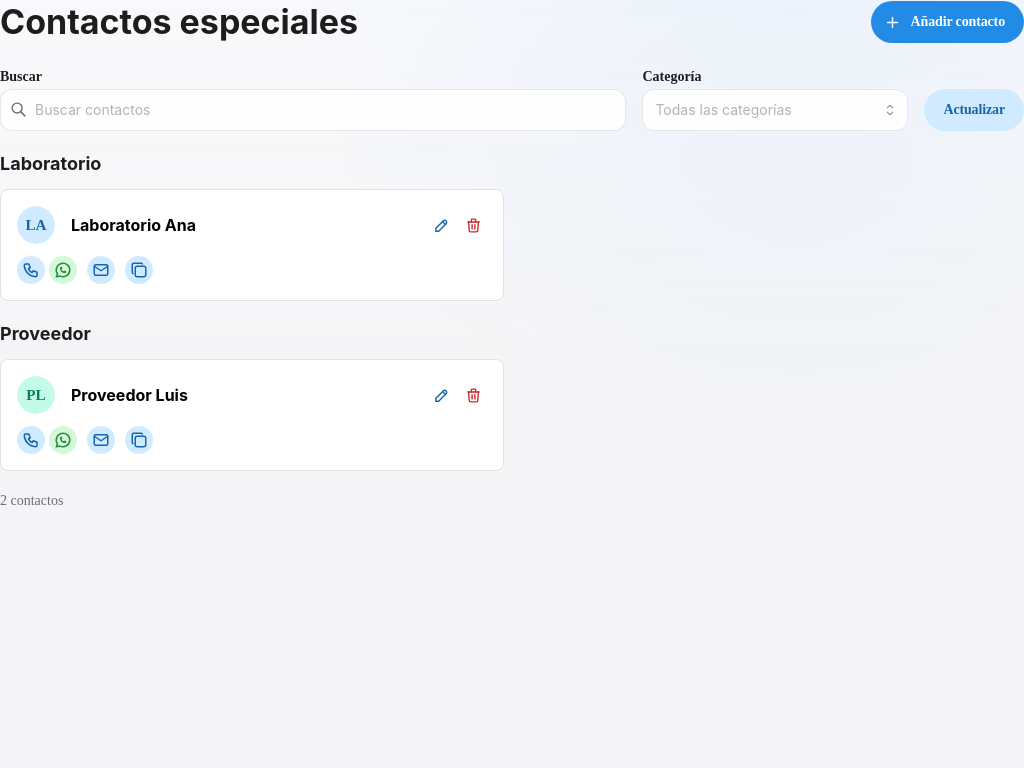
Test: copies contact data and allows editing
Click the button named "Copiar Laboratorio Ana" at (139, 270), box 125,256 -> 153,284
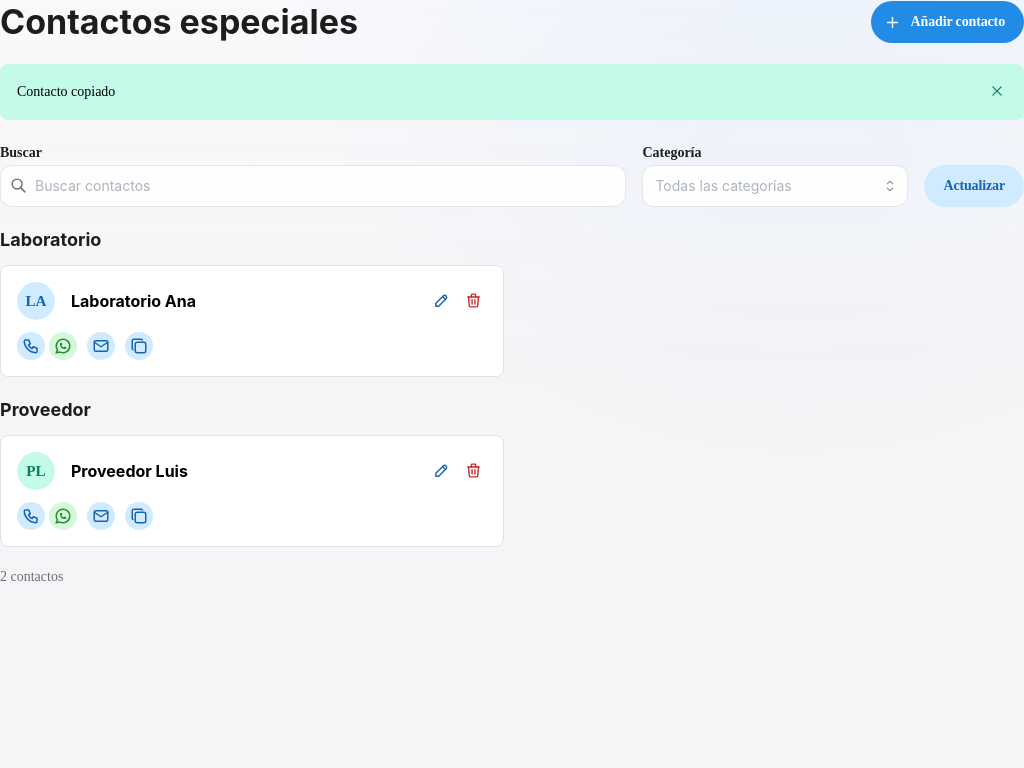
Check: the message reads "Contacto copiado", box 17,84 -> 115,99
Click the button named "Editar Laboratorio Ana" at (441, 301), box 427,287 -> 455,315
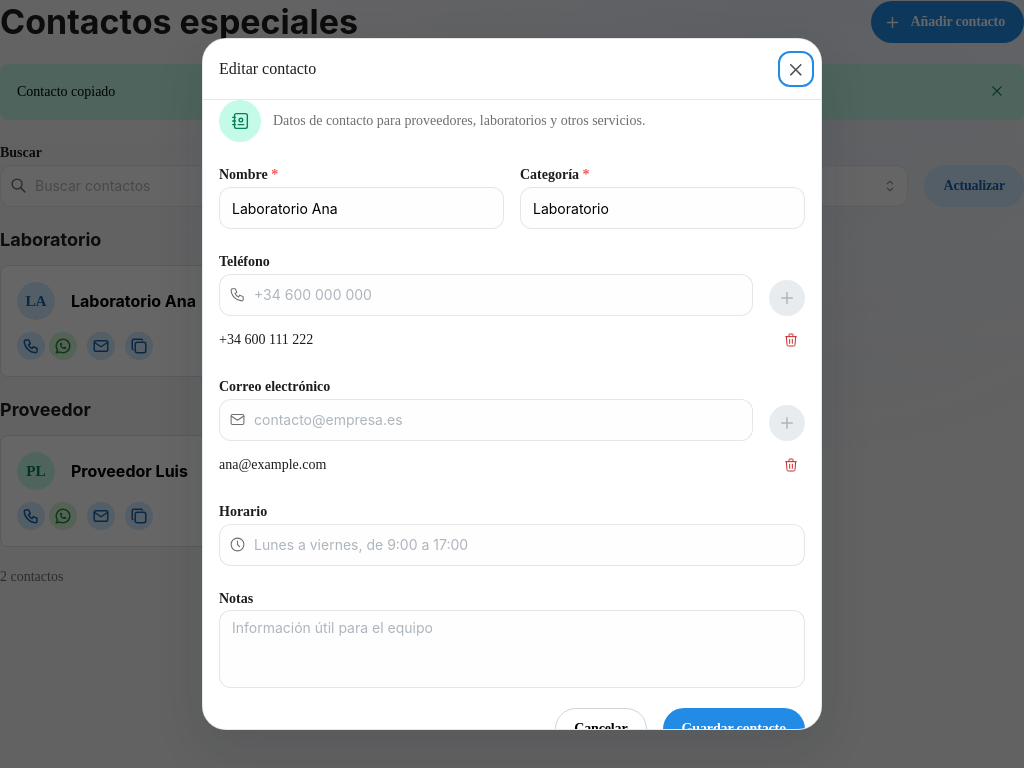
Check: the dialog shows "Editar contacto", box 219,60 -> 316,77
